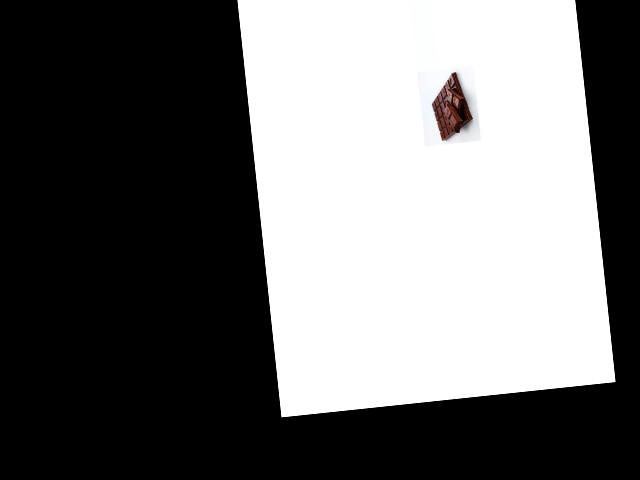chocolate: (425, 69, 477, 142)
